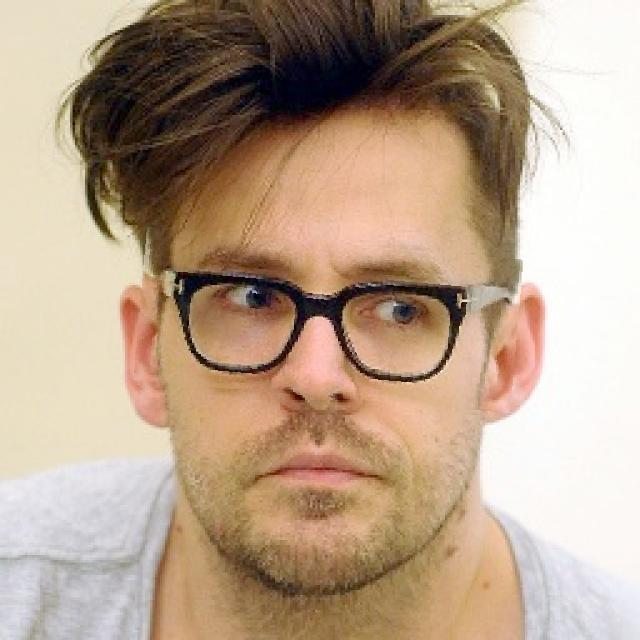glasses: (137, 235, 521, 405)
